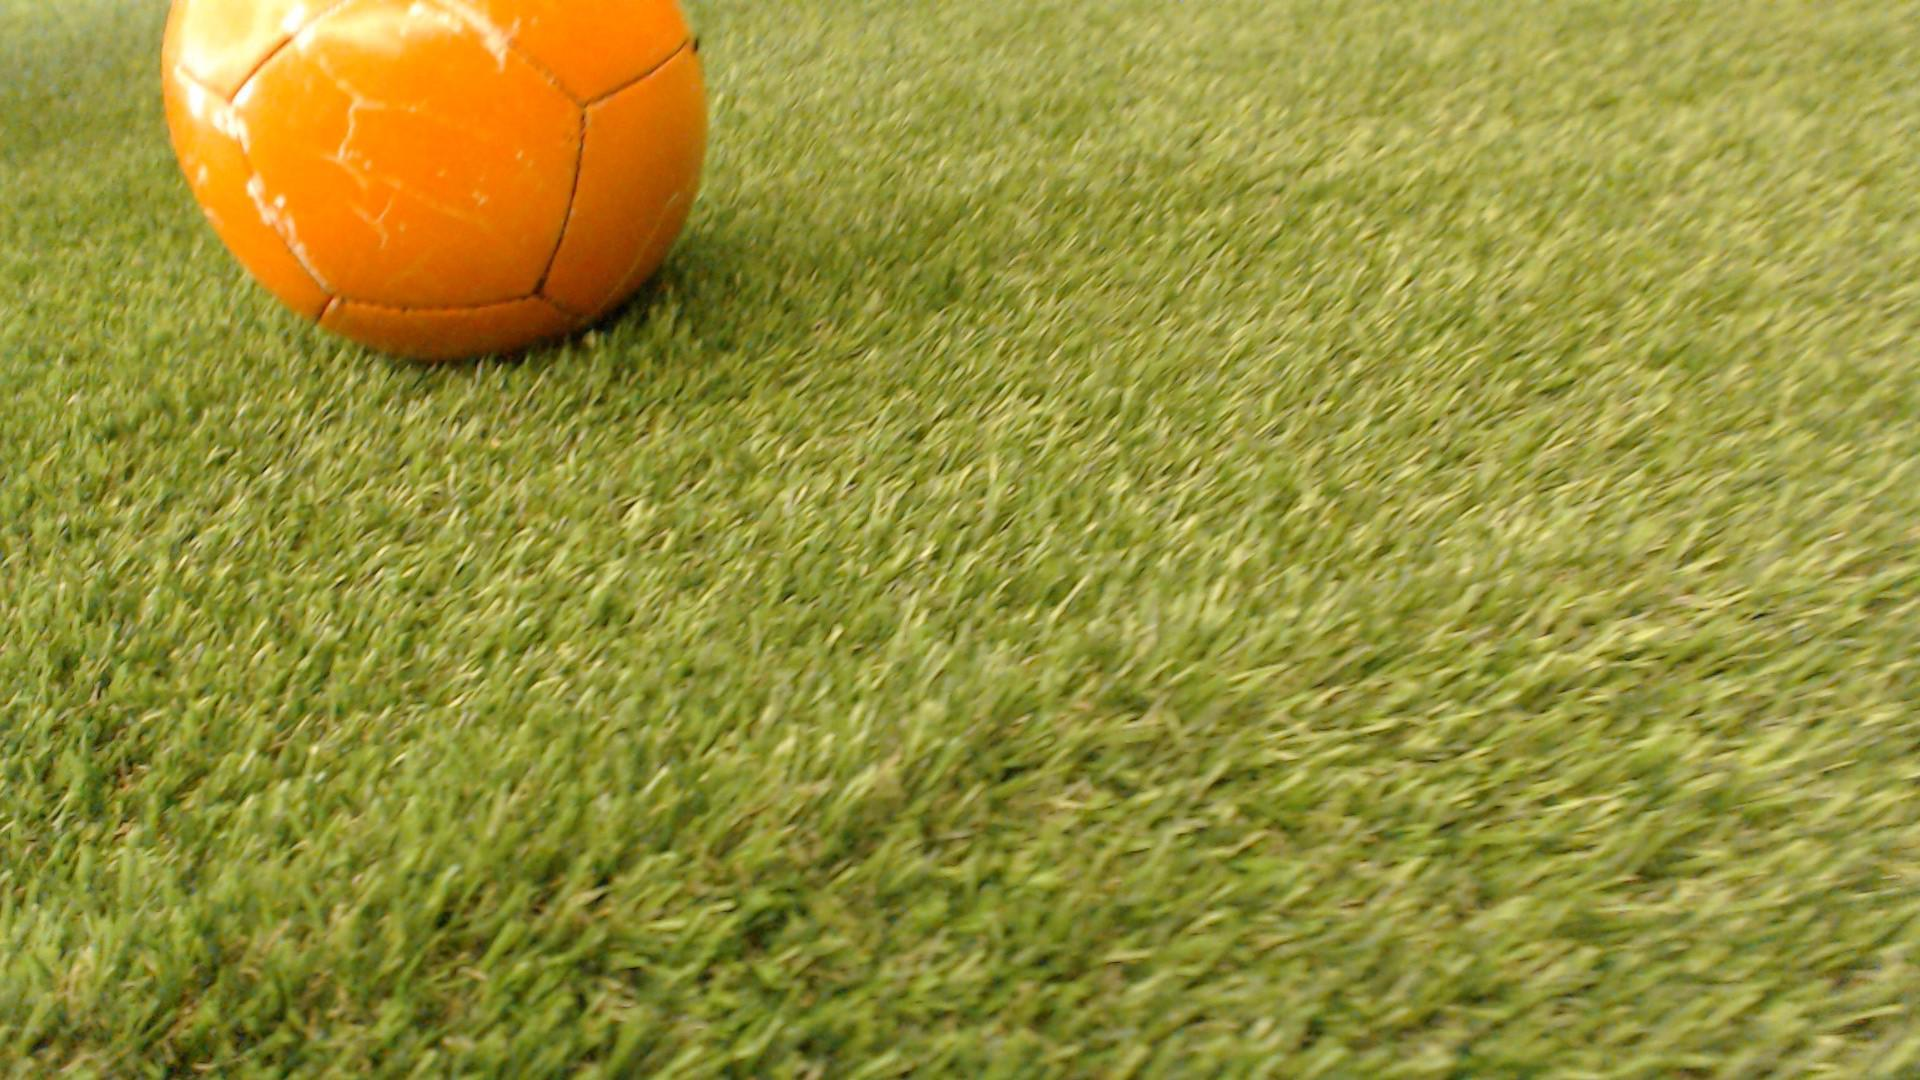bola: (115, 0, 782, 402)
